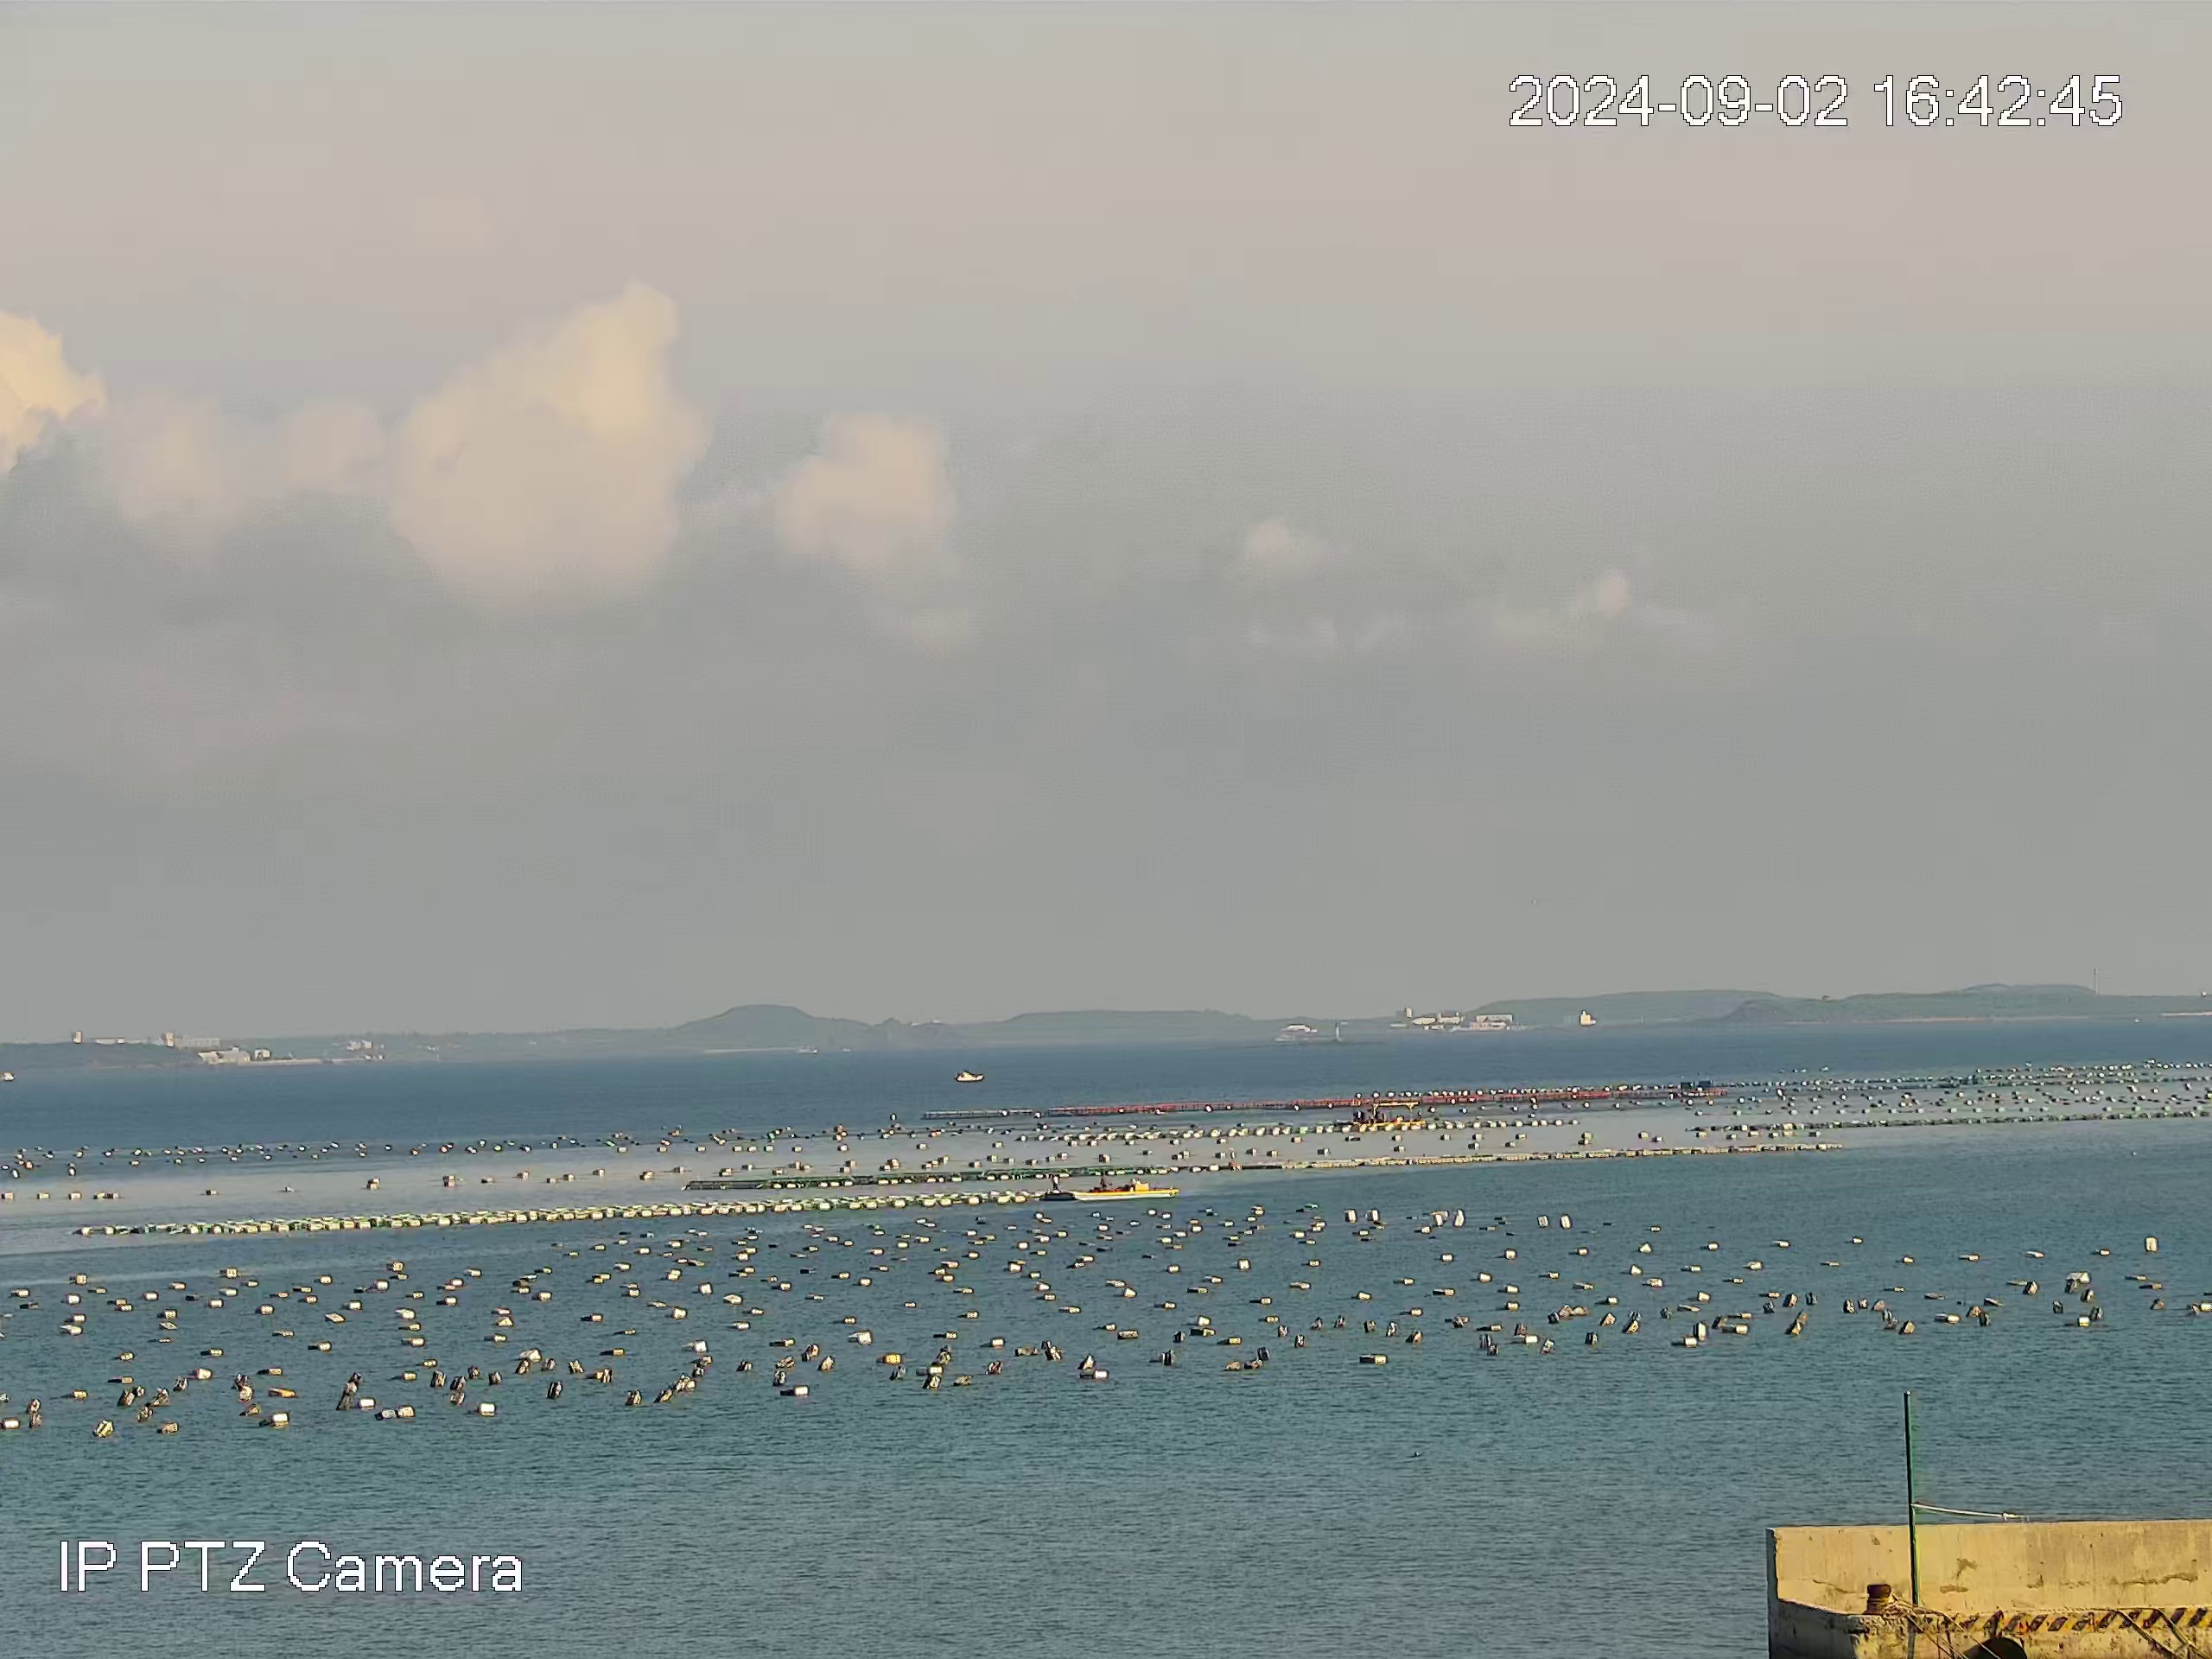boat: (1036, 1171, 1181, 1202), (1350, 1101, 1426, 1127), (953, 1068, 986, 1082)
